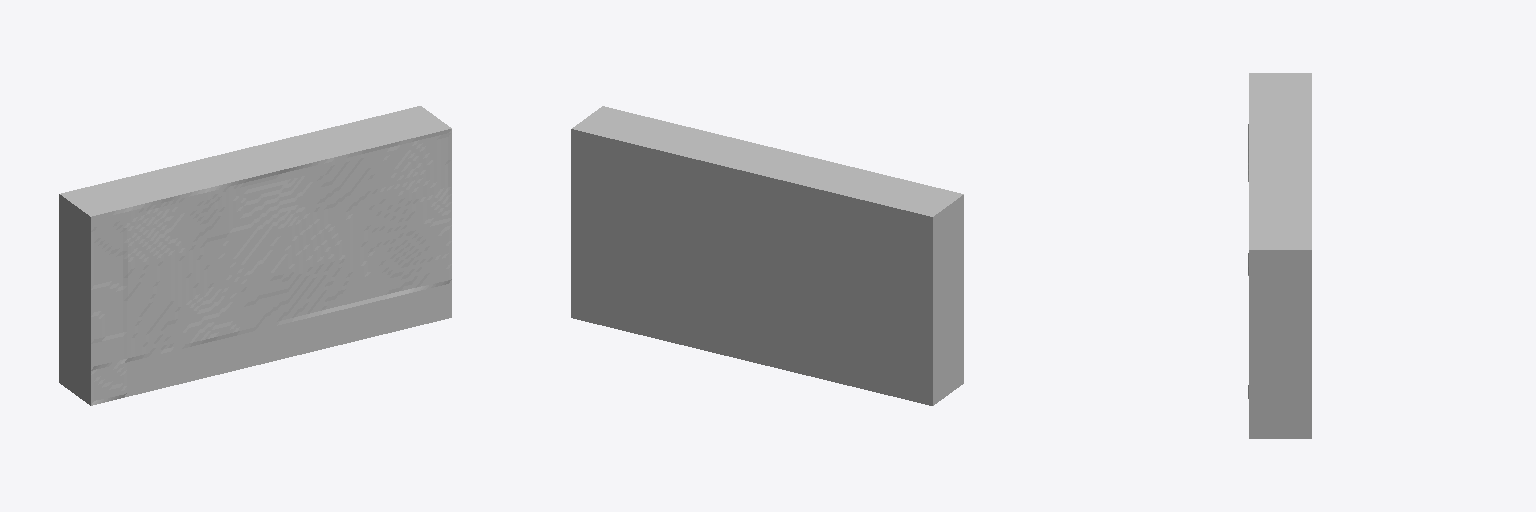
Rendered from rectangular_prism_bumps_1_5.obj.
The picture shows the model from 3 angles: view 1: azimuth 30°, elevation 25°; view 2: azimuth 150°, elevation 25°; view 3: azimuth 270°, elevation 25°; orthographic projection.
Bounding box in the file's own units: 10 × 5 × 1.52.